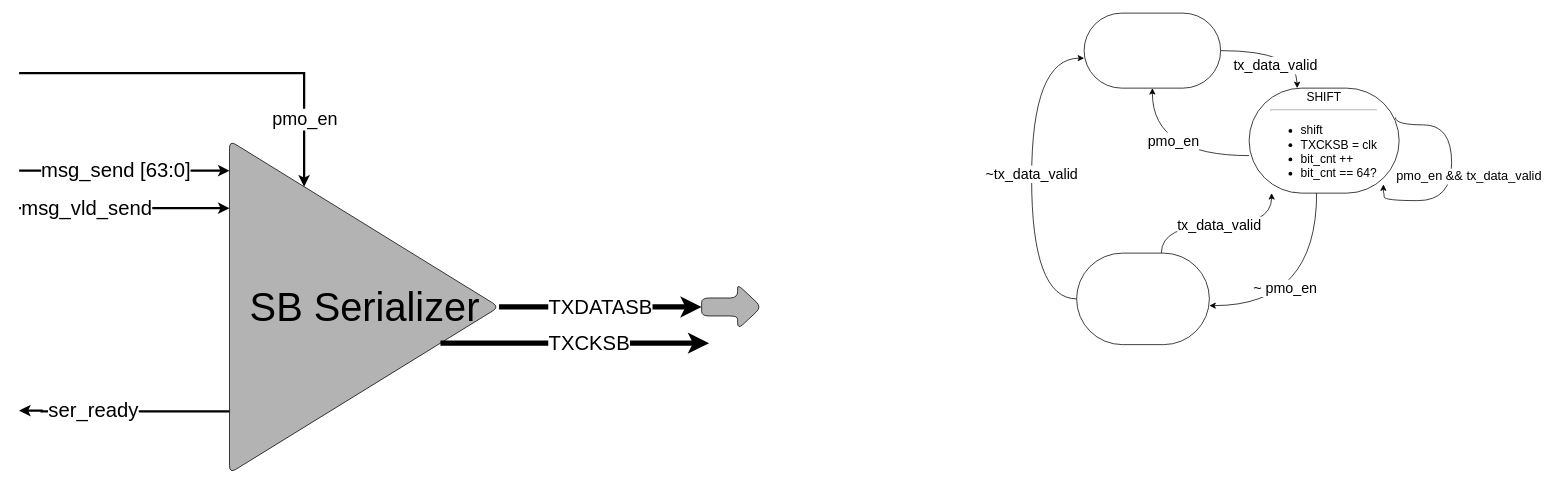
This 1555x487 diagram has some shape labels left out. The centre of each missing label's shape, as x and y in pixels:
GAP gap_cnt++ cnt == 31?: point (1142, 298)
IDLE tx_ready = 1 TXCKSB = 0: point (1152, 50)
